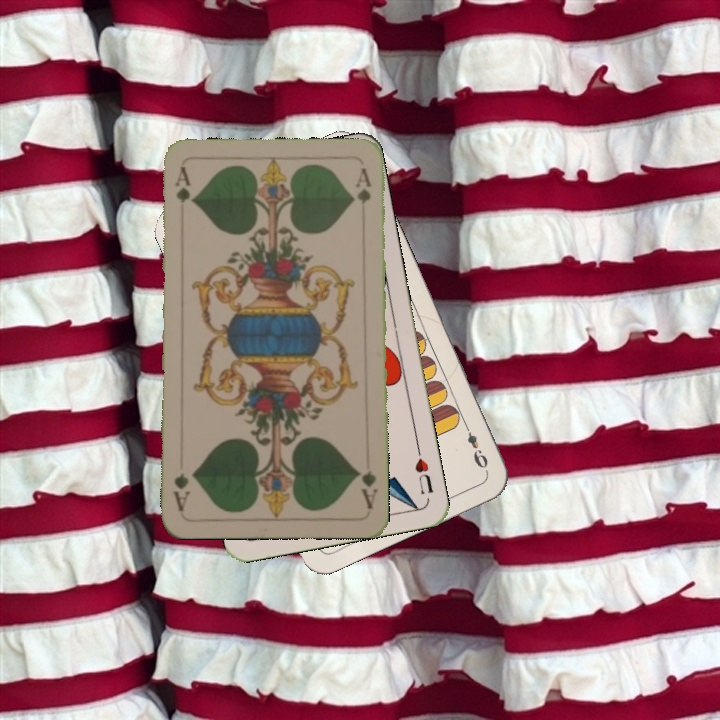E9: (459, 418, 491, 471)
GA: (353, 466, 380, 512), (171, 163, 193, 205)
HU: (411, 442, 436, 497)
